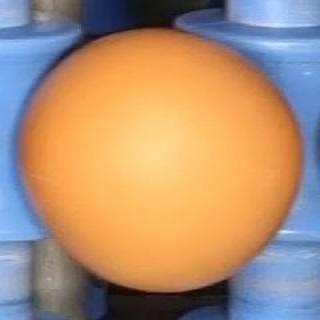Telur: (17, 21, 306, 294)
